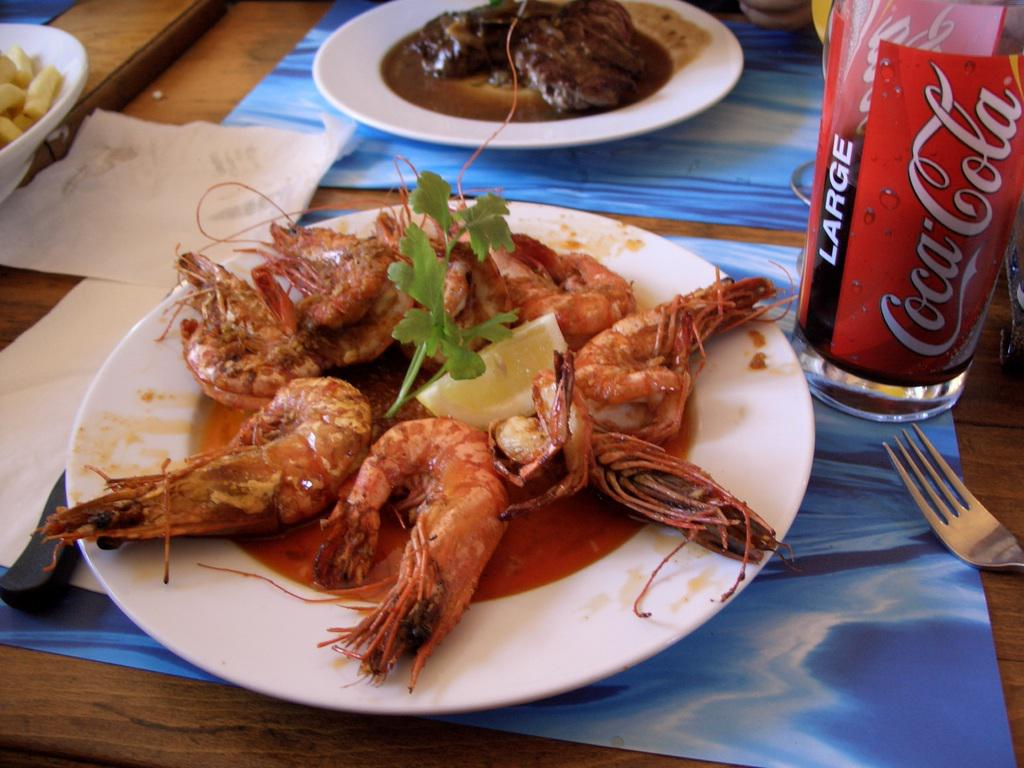Shrimp: (196, 415, 509, 691), (486, 342, 794, 615), (25, 377, 376, 584), (451, 0, 636, 342), (186, 150, 467, 358), (582, 262, 801, 442), (156, 241, 320, 410)
